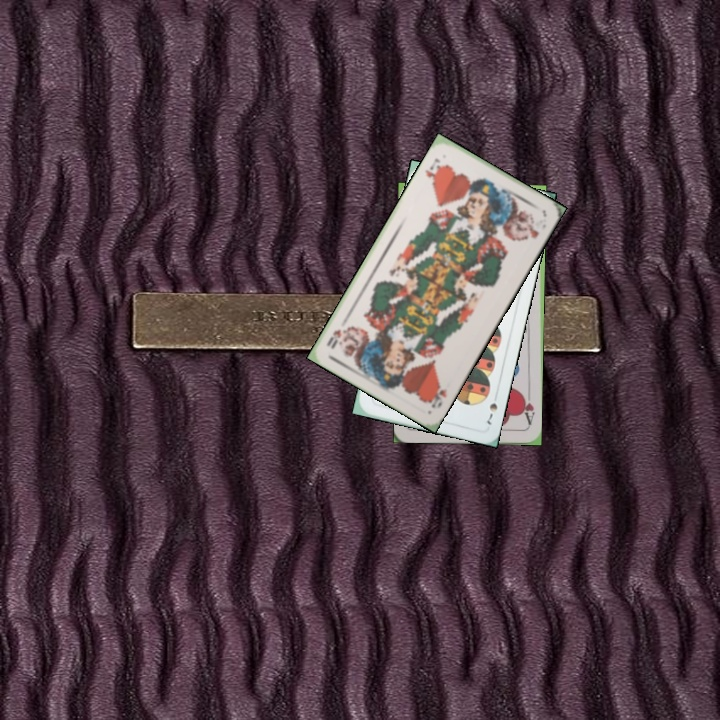HA: (518, 388, 537, 429)
HO: (425, 378, 449, 411), (421, 154, 445, 187)
S7: (482, 389, 500, 427)
